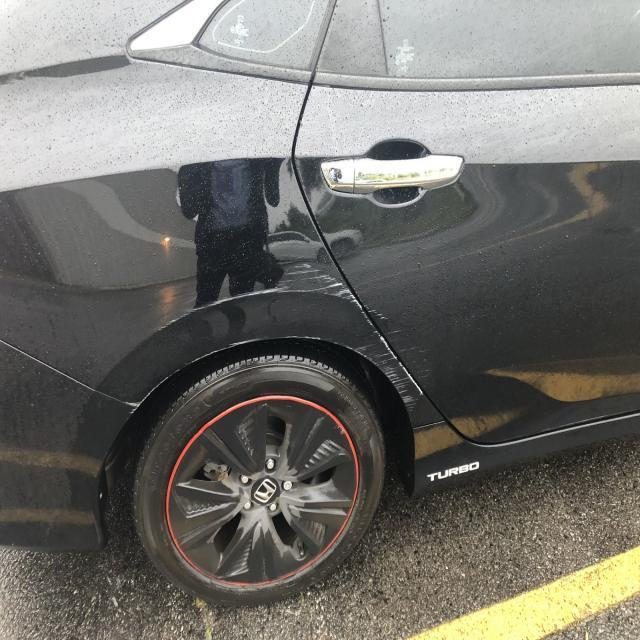scratch: (252, 257, 444, 417)
